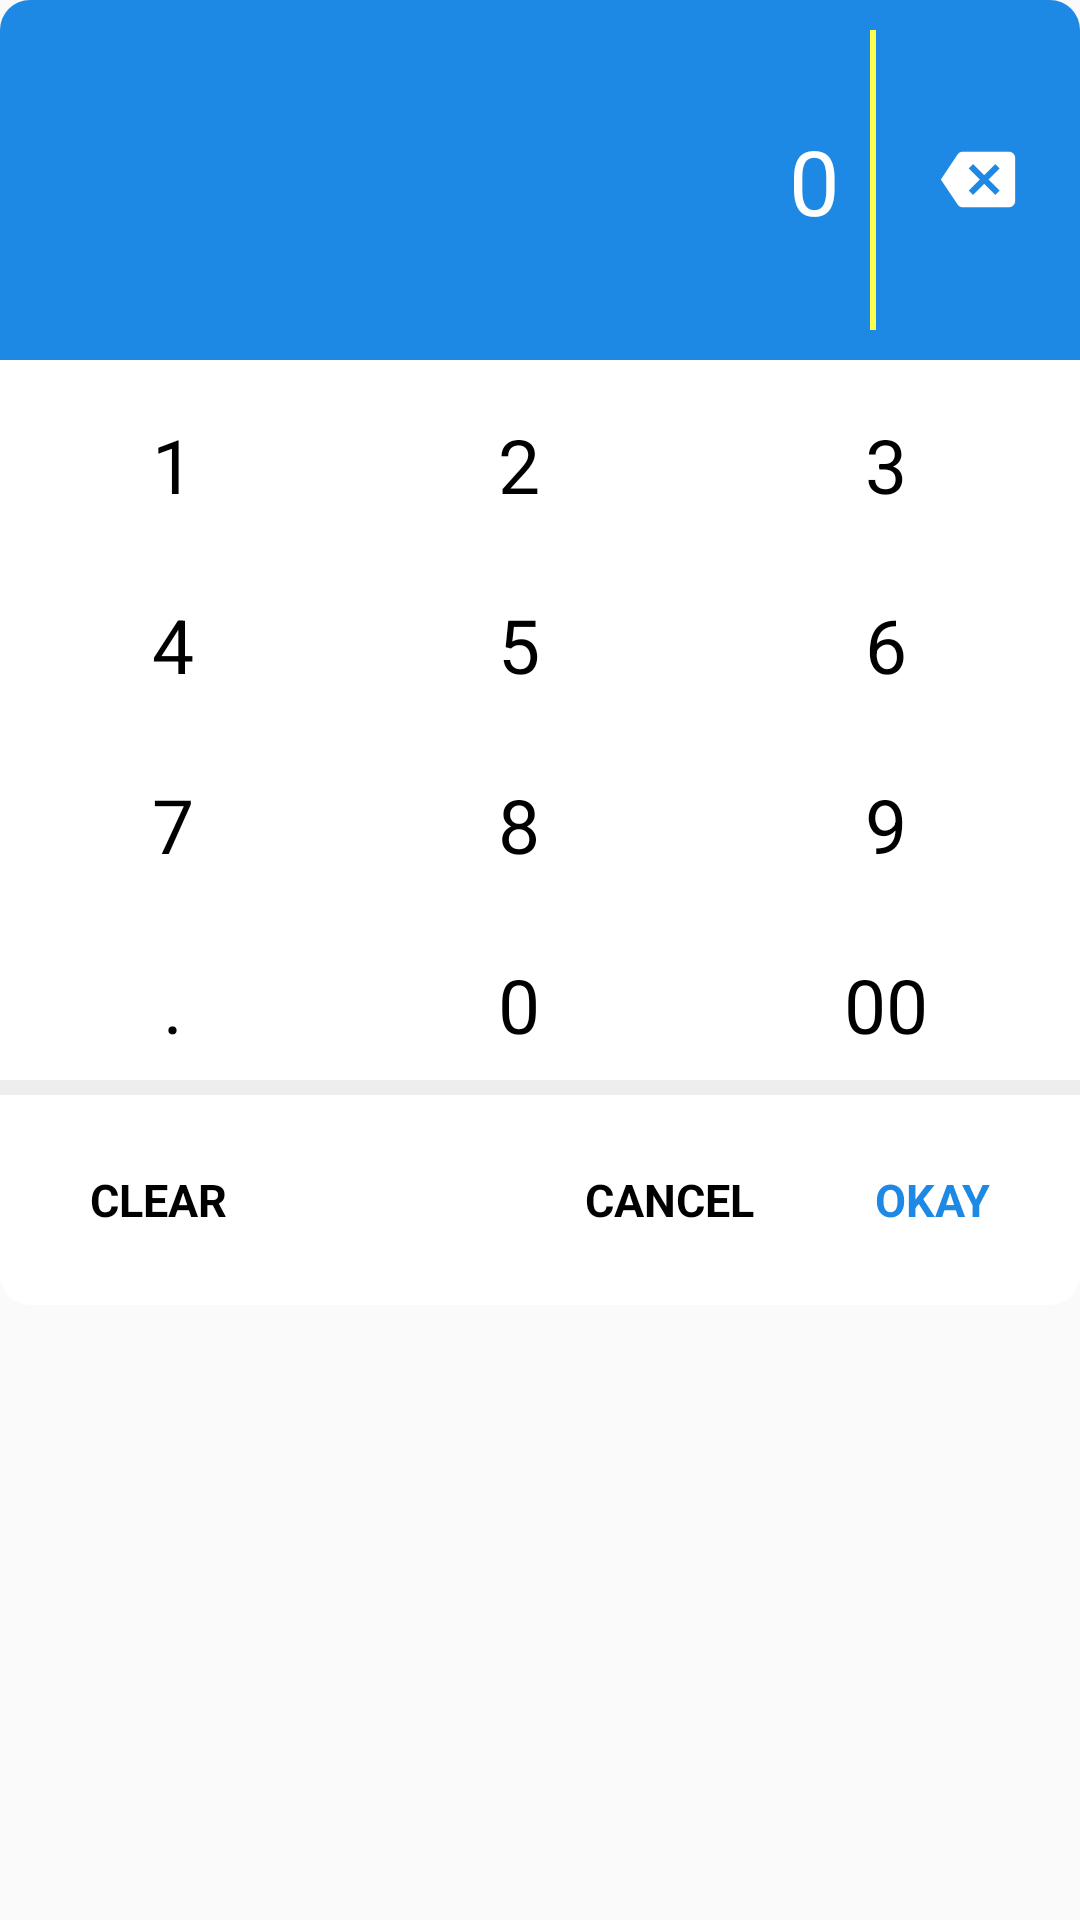

Icon click points for this 1080px×1920px phone screenshot, format (x,y):
backspace: (978,179)
